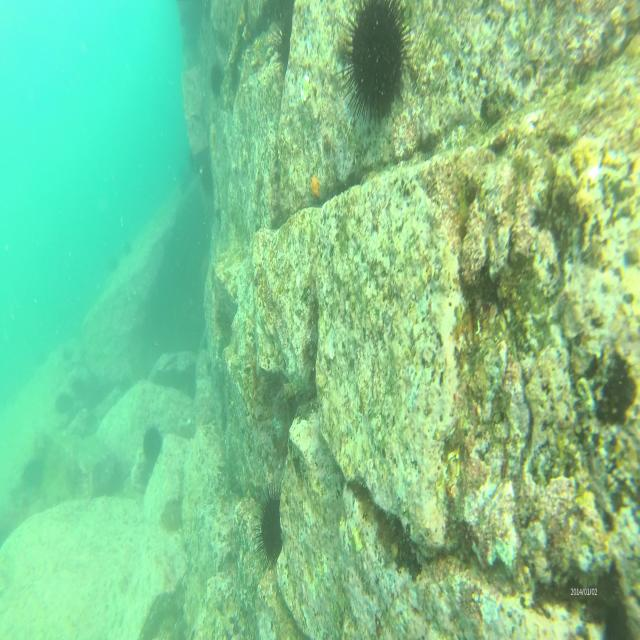echinus: (336, 0, 412, 119), (252, 486, 288, 564), (141, 422, 162, 461), (210, 61, 223, 95)
